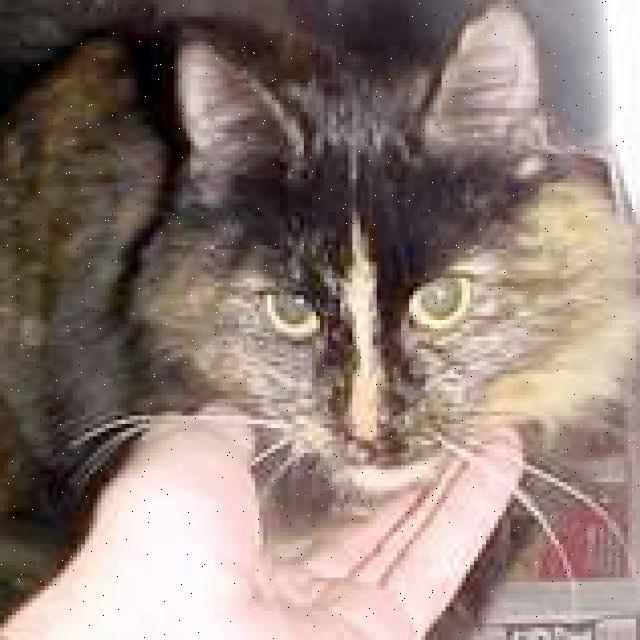Cat: (129, 45, 640, 507)
